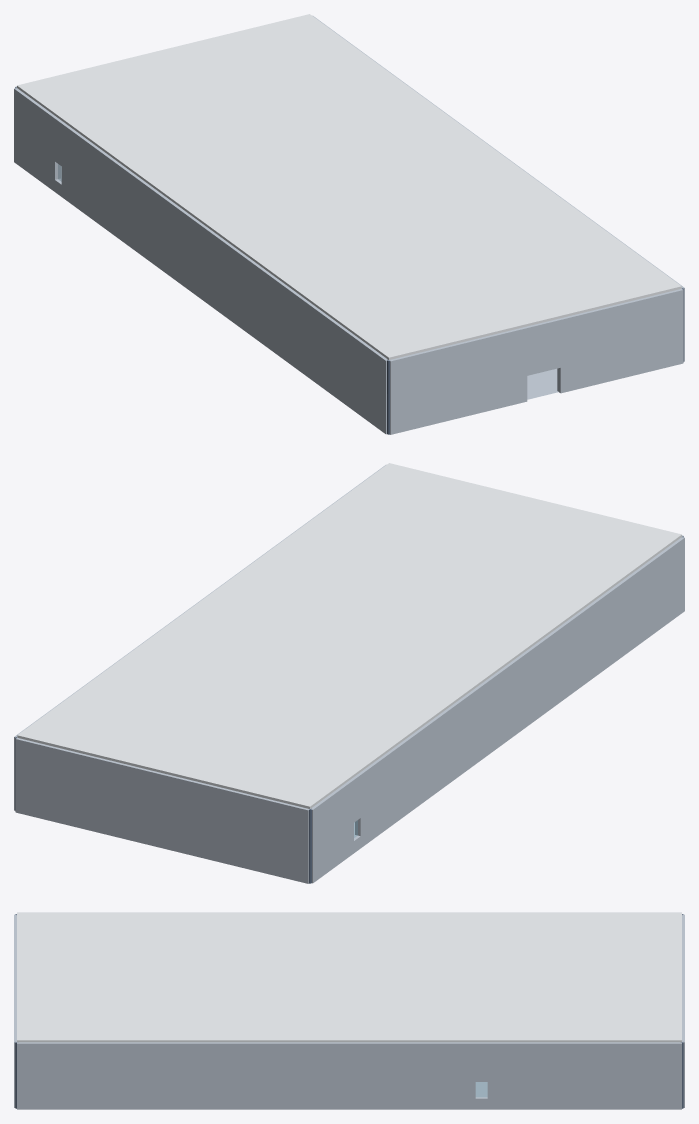
File: 102f99ea-ffda-47a9-a2a2-0c1c67421838.glb
3 renders of one model, top to bottom at view 1: azimuth 30°, elevation 25°; view 2: azimuth 150°, elevation 25°; view 3: azimuth 270°, elevation 25°, orthographic. The views are drawn at different scales.
Parts seen in each view (by area): view 1: room-content; view 2: room-content; view 3: room-content.
Boxes of the visible parts, left/top/right/bottom form: room-content: left=14, top=14, right=684, bottom=434; room-content: left=14, top=463, right=684, bottom=883; room-content: left=14, top=912, right=684, bottom=1109.
Bounding box in the file's own units: 25.53 × 6.2 × 55.5.
